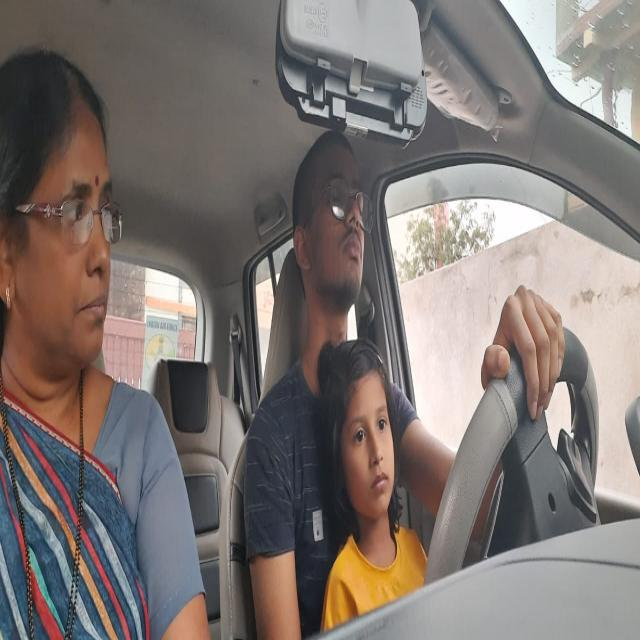child: (318, 346, 400, 534)
person: (0, 42, 124, 383), (293, 124, 375, 319)
